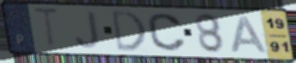8: (193, 12, 226, 55)
A: (229, 15, 269, 55)
C: (146, 12, 188, 53)
D: (110, 8, 148, 53)
J: (73, 10, 102, 50)
T: (31, 6, 62, 51)
